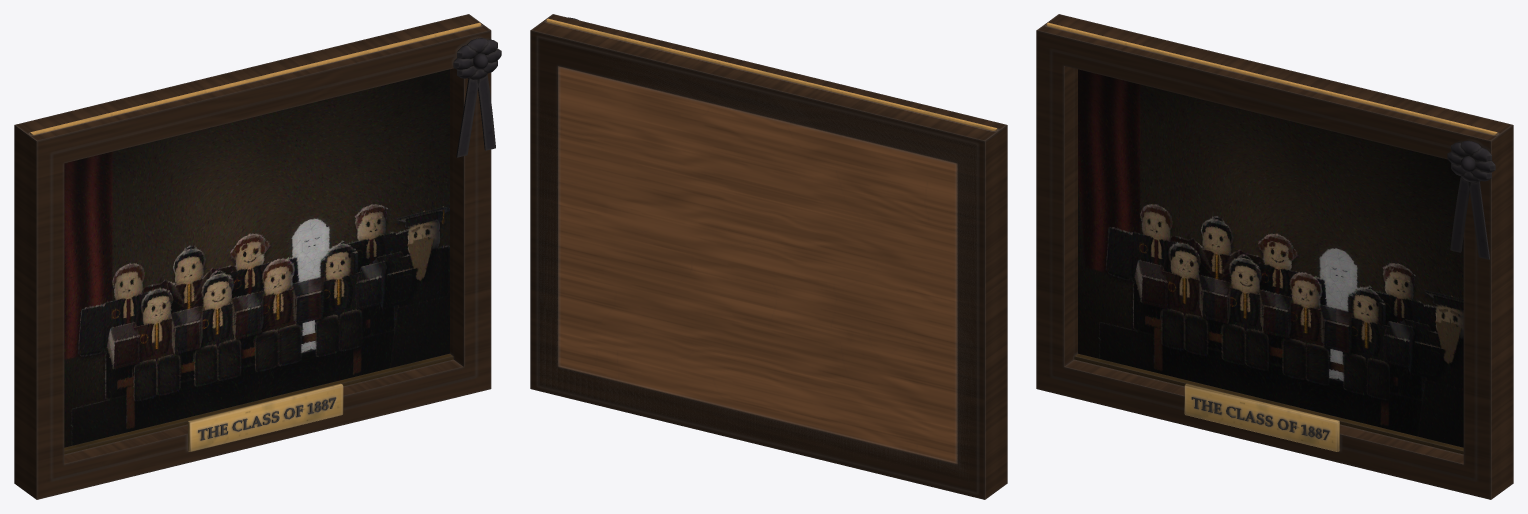
Rendered from PaintingClassOf1887.fbx.
3 views of the same model, side by side, from view 1: azimuth 30°, elevation 25°; view 2: azimuth 150°, elevation 25°; view 3: azimuth 330°, elevation 25° (orthographic).
Parts seen in each view (by area): view 1: PaintingClassOf1887_Canvas, PaintingClassOf1887_Main; view 2: PaintingClassOf1887_Main; view 3: PaintingClassOf1887_Canvas, PaintingClassOf1887_Main.
Part boxes in pixels (x1,y1,x2,y2): PaintingClassOf1887_Canvas: (64, 69, 449, 447); PaintingClassOf1887_Main: (14, 14, 501, 499); PaintingClassOf1887_Main: (530, 14, 1007, 499); PaintingClassOf1887_Canvas: (1078, 69, 1463, 447); PaintingClassOf1887_Main: (1036, 14, 1513, 499).
Bounding box in the file's own units: 571 × 427 × 68.56.
